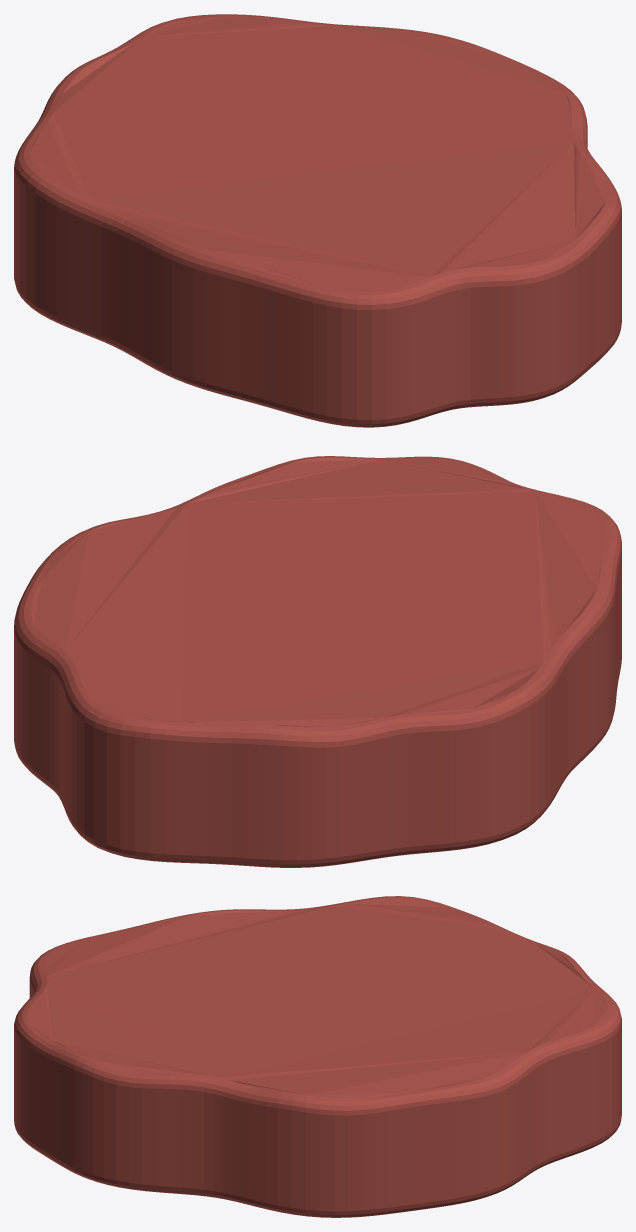
Rendered from meat.glb.
3 views of the same model, one above another, from view 1: azimuth 30°, elevation 25°; view 2: azimuth 150°, elevation 25°; view 3: azimuth 270°, elevation 25° (orthographic). The views are drawn at different scales.
Visible parts, largest first — view 1: meat; view 2: meat; view 3: meat.
Boxes of the visible parts, x1=… form: meat: x1=14, y1=14, x2=621, y2=427; meat: x1=14, y1=456, x2=621, y2=867; meat: x1=14, y1=896, x2=621, y2=1217.
Bounding box in the file's own units: 1.04 × 0.276 × 1.27.
